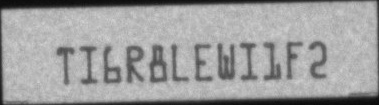1: (262, 40, 280, 81)
2: (308, 40, 327, 79)
6: (101, 44, 122, 84)
8: (149, 44, 168, 82)
E: (194, 42, 212, 81)
F: (285, 41, 303, 80)
I: (79, 45, 98, 85), (240, 40, 257, 80)
L: (172, 44, 189, 82)
R: (126, 45, 146, 84)
T: (57, 45, 74, 86)
W: (216, 41, 236, 80)
